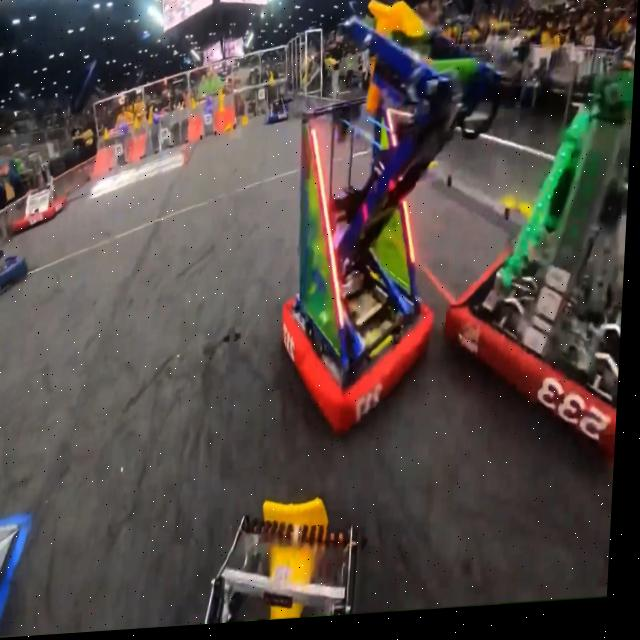robot: (280, 1, 505, 444), (441, 77, 635, 482), (13, 165, 72, 235), (0, 242, 34, 305), (267, 101, 292, 130)
